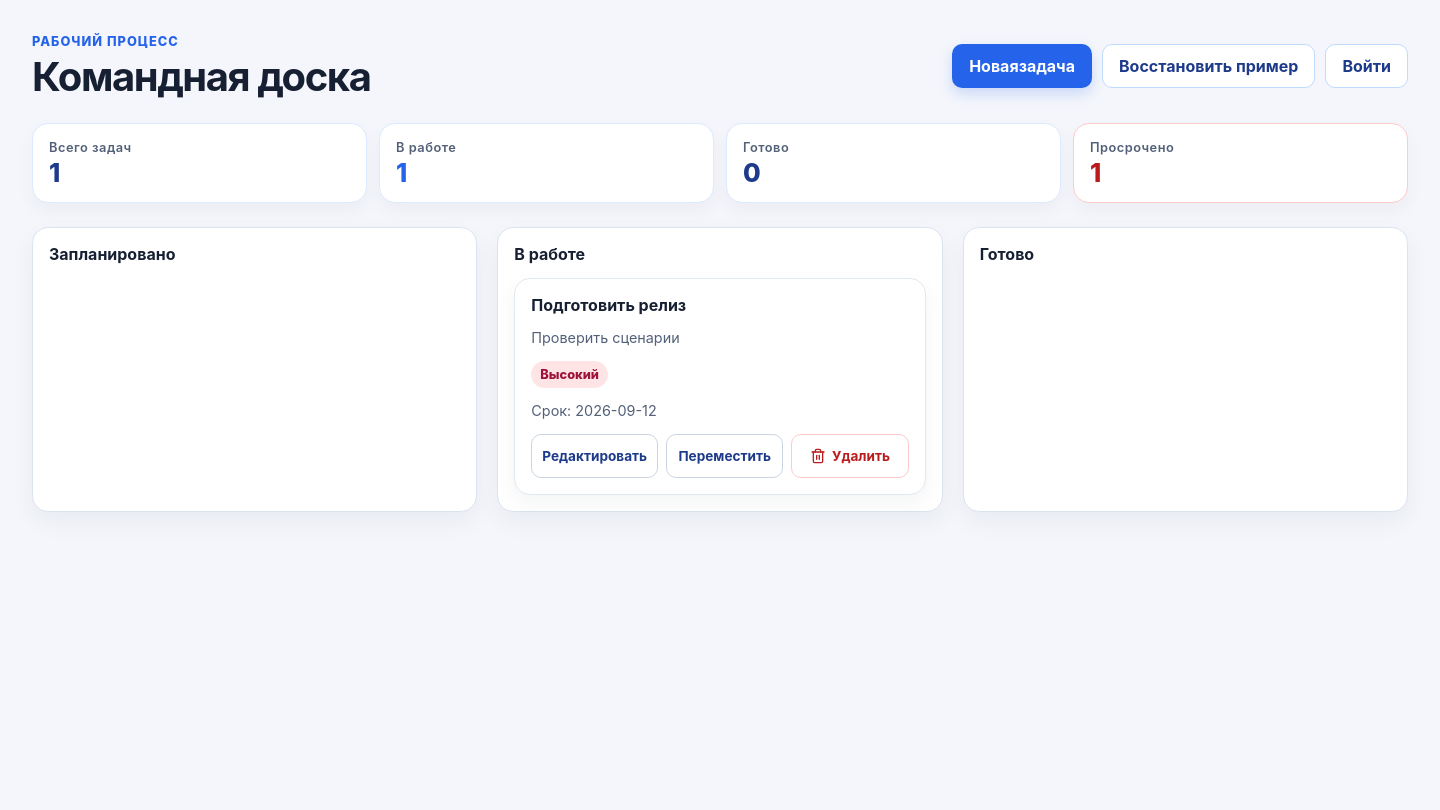
it: App › clears an existing due date when editing a task
Check: the heading "Подготовить релиз" is shown, box [531,294,686,314]
Check: the element named "Просрочено: 1" is shown, box [1073,123,1408,202]
Click the button with aria-label "Редактировать: Подготовить релиз" at (595, 456), box [531,434,658,478]
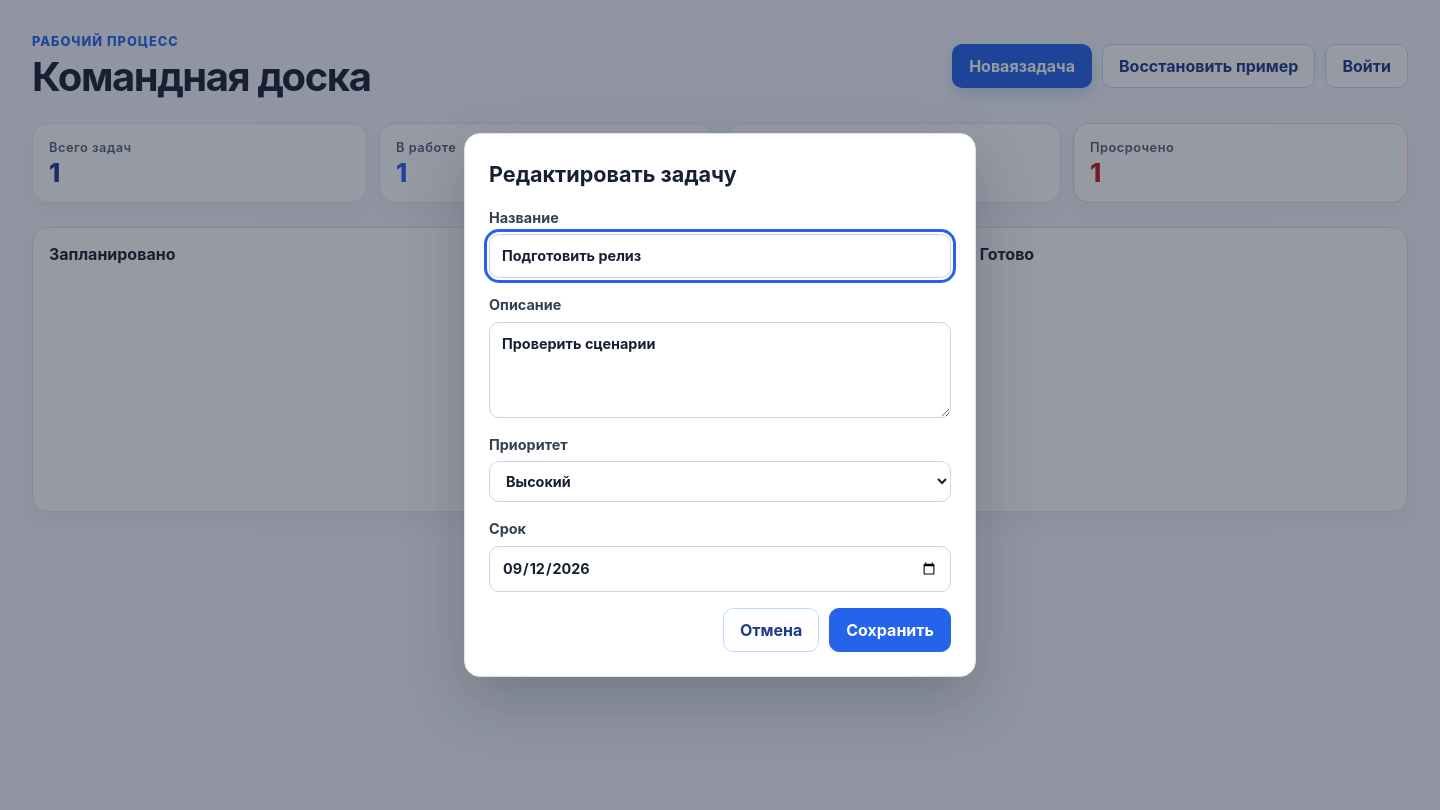
Clear the date field labelled "Срок" at (720, 569), box [489,546,951,592]
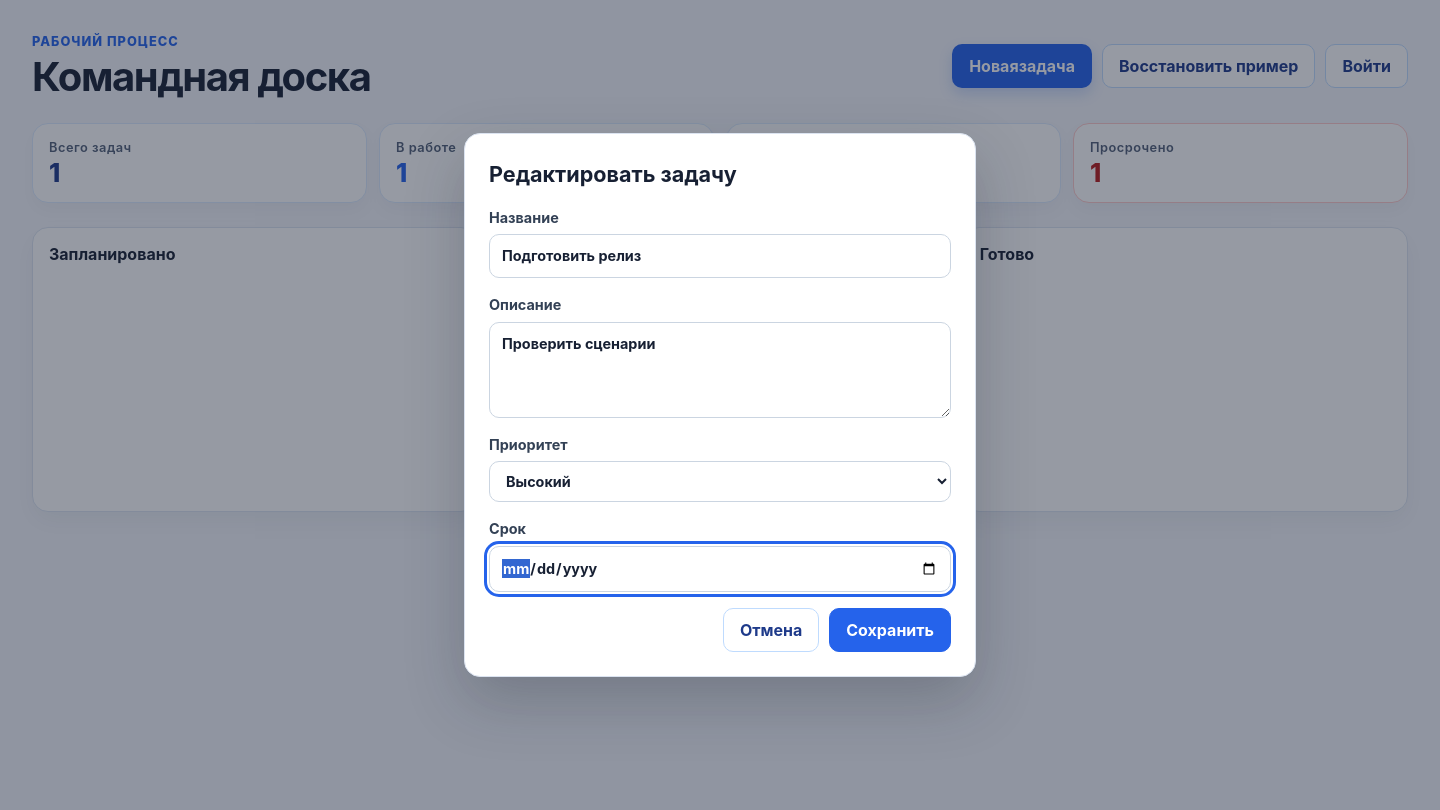
Click the button "Сохранить" at (890, 630), box [829,608,951,652]
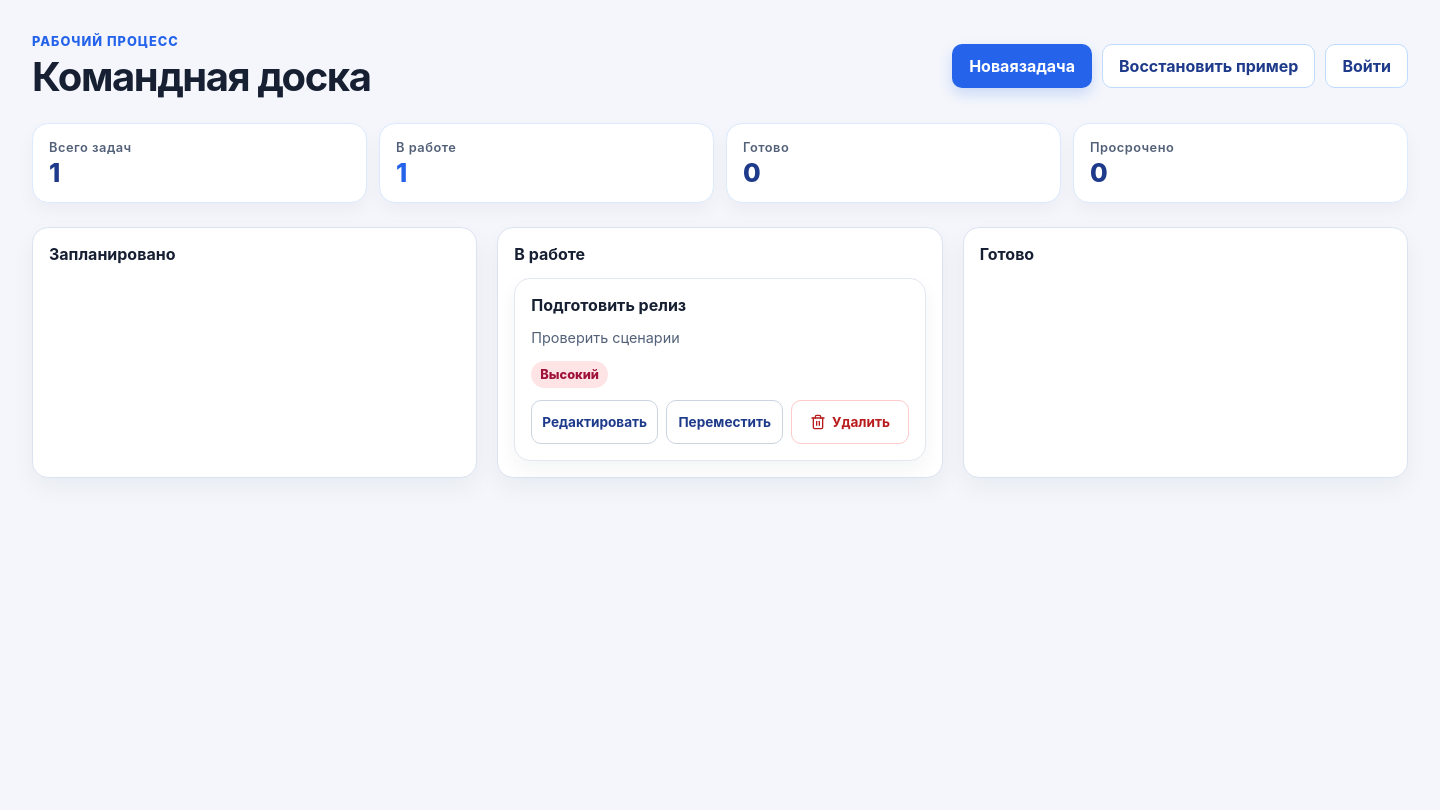
Check: the heading "Подготовить релиз" is shown, box [531,294,686,314]
Check: the text "Срок: 2026-09-12" is gone
Check: the element named "Просрочено: 0" is shown, box [1073,123,1408,202]
